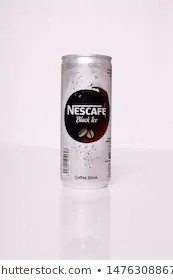nescafe-can: (59, 54, 113, 186)
